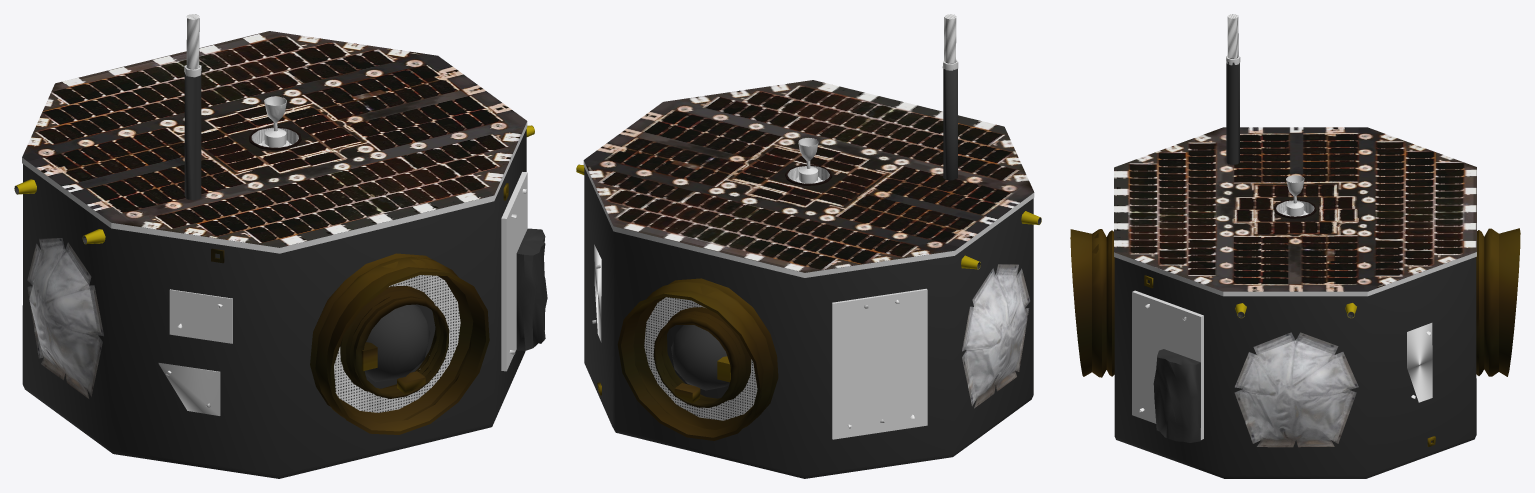
File: ibex_lod1.glb
The picture shows the model from 3 angles, left to right: view 1: azimuth 30°, elevation 25°; view 2: azimuth 150°, elevation 25°; view 3: azimuth 270°, elevation 25°; orthographic projection. The views are drawn at different scales.
Parts seen in each view (by area): view 1: ibex_lod1; view 2: ibex_lod1; view 3: ibex_lod1.
Boxes of the visible parts, x1,y1,x2,y2 form: ibex_lod1: (14,14,547,478); ibex_lod1: (576,14,1041,478); ibex_lod1: (1070,14,1520,478).
Bounding box in the file's own units: 1.12 × 0.9773 × 1.18.
Materials: 5 (3 with a texture image).
